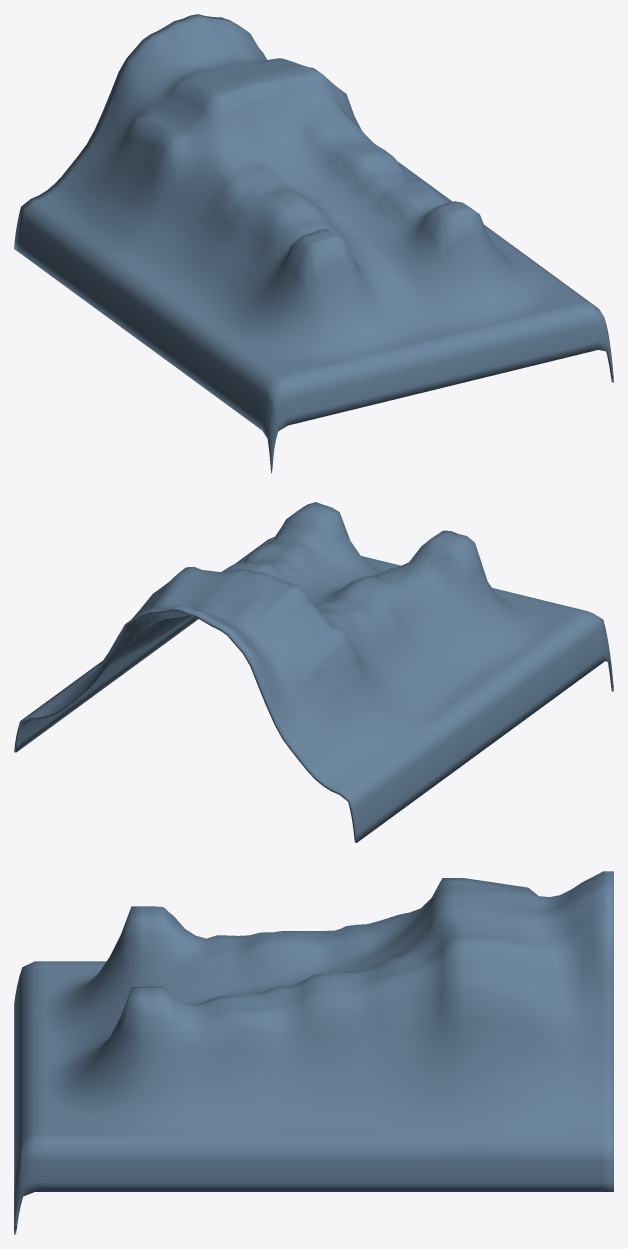
The model's file is Patient_Blanket.fbx.
3 views of the same model, one above another, from view 1: azimuth 30°, elevation 25°; view 2: azimuth 150°, elevation 25°; view 3: azimuth 270°, elevation 25° (orthographic). The views are drawn at different scales.
Parts seen in each view (by area): view 1: Patient_Blanket; view 2: Patient_Blanket; view 3: Patient_Blanket.
Part boxes in pixels (x1,y1,x2,y2): Patient_Blanket: [14, 14, 613, 473]; Patient_Blanket: [14, 502, 613, 842]; Patient_Blanket: [14, 871, 613, 1234].
Size of the model in its own units: 0.9479 by 0.6001 by 1.23.
